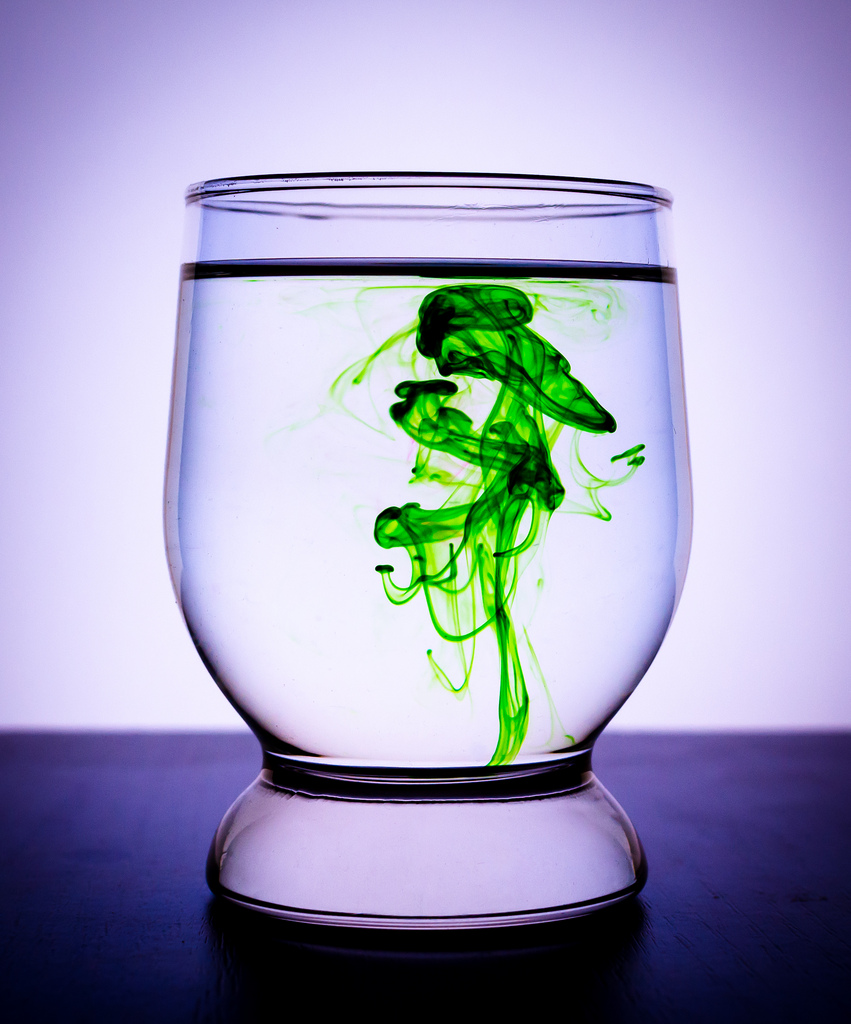glass of water: (161, 147, 702, 927)
